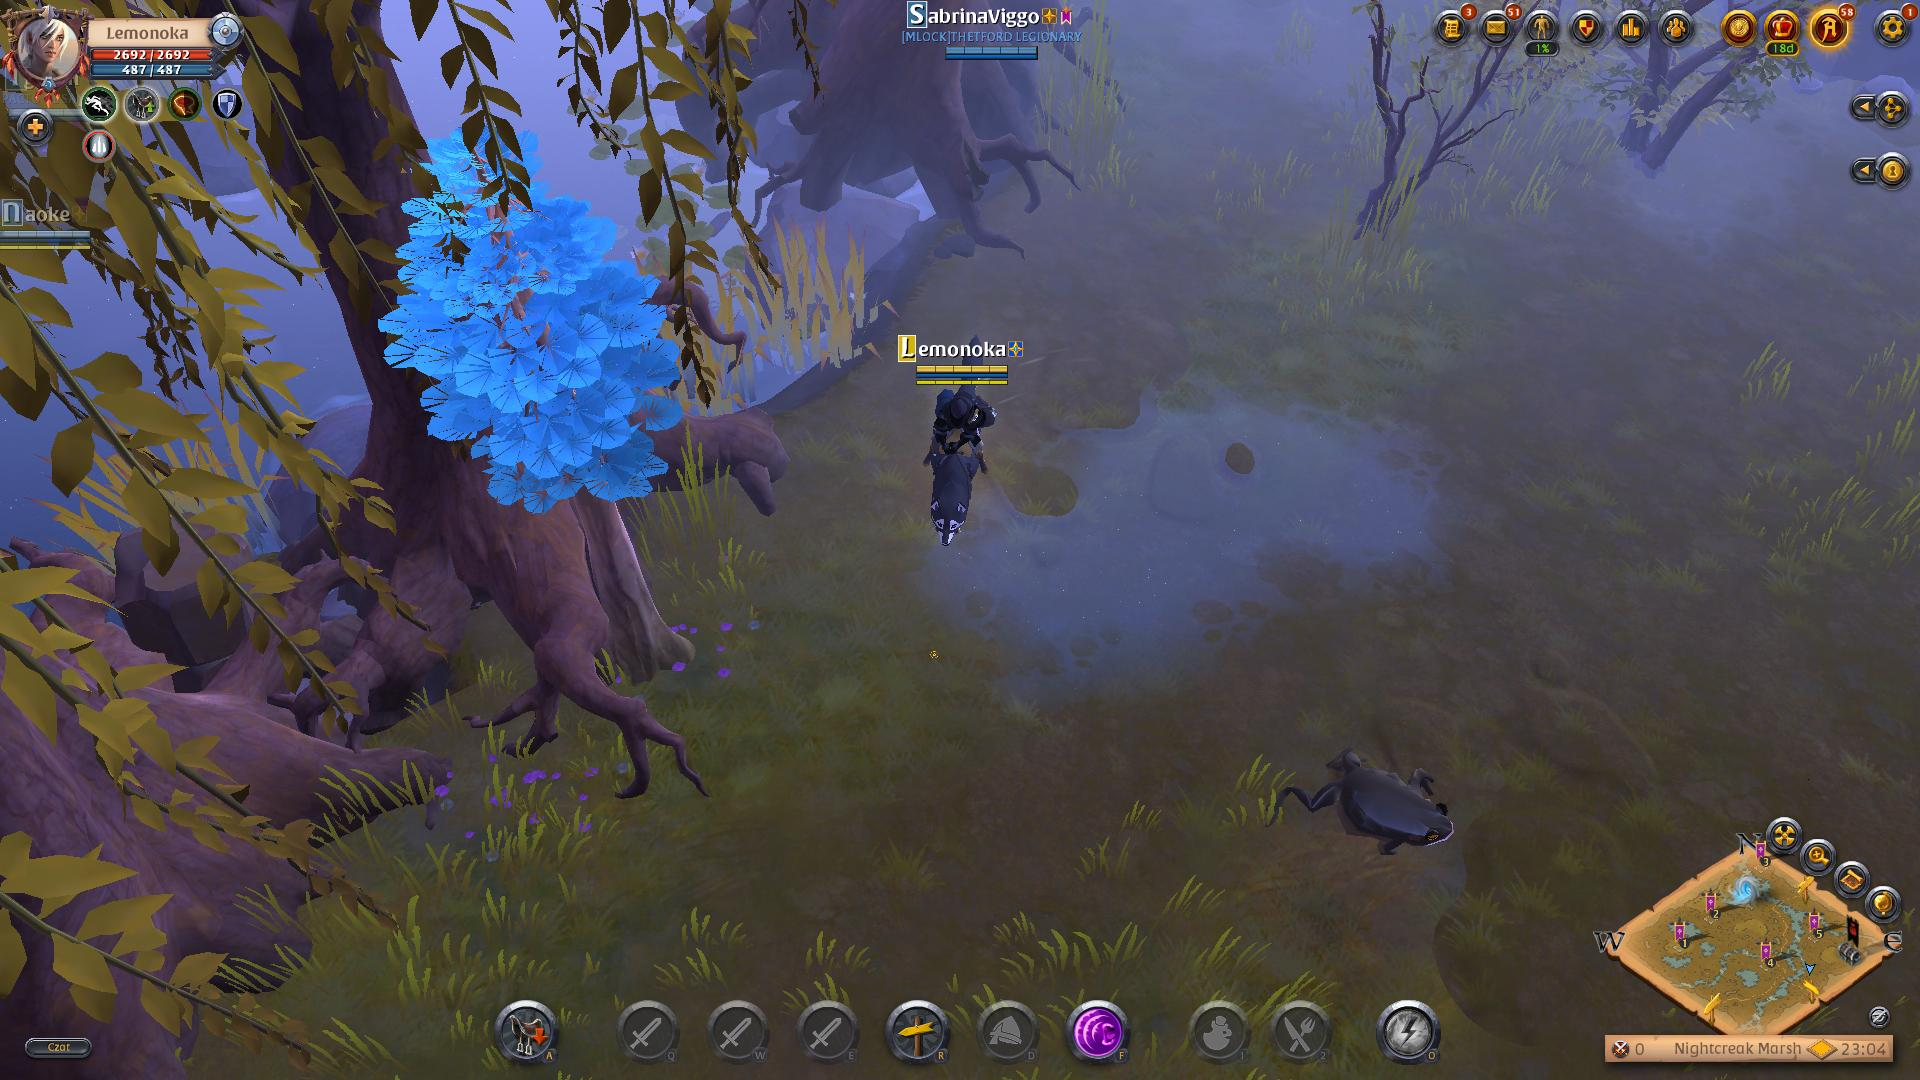wood tier 4: (380, 124, 683, 524)
